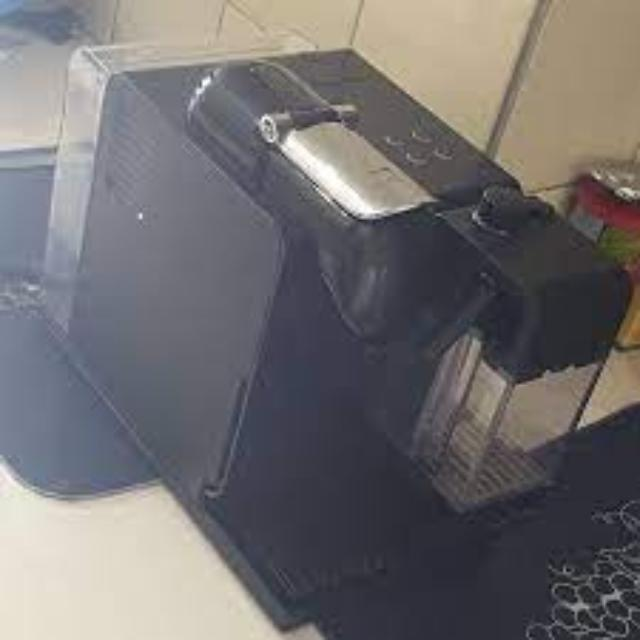Coffee-Machine: (45, 32, 630, 636)
